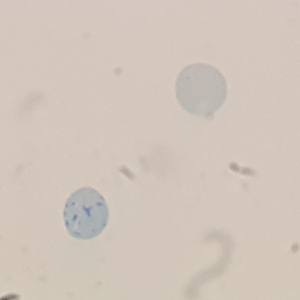aggregate reticulocyte: (62, 186, 111, 241)
punctate reticulocyte: (173, 62, 229, 119)
